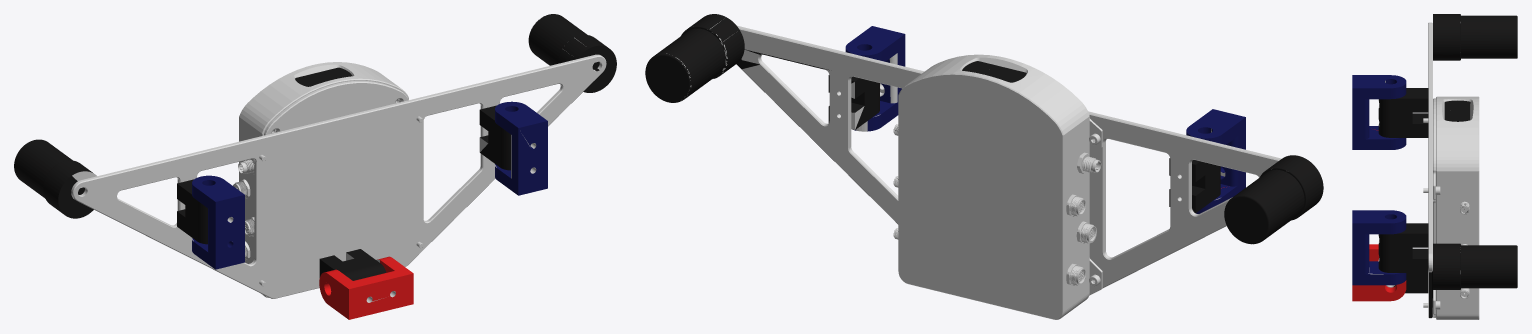
File: sensor.fbx
3 renders of one model, left to right at view 1: azimuth 30°, elevation 25°; view 2: azimuth 150°, elevation 25°; view 3: azimuth 270°, elevation 25°, orthographic. The views are drawn at different scales.
Parts seen in each view (by area): view 1: 00_VRTK2_STK_Assembly_incl_cam_FOV_v3 (1), Soportes, Patas Sensor, Soporte_Trasero, Antena1, Antena2, Pantalla; view 2: 00_VRTK2_STK_Assembly_incl_cam_FOV_v3 (1), Antena1, Antena2, Soportes, Patas Sensor, Pantalla; view 3: 00_VRTK2_STK_Assembly_incl_cam_FOV_v3 (1), Soportes, Patas Sensor, Antena1, Antena2, Soporte_Trasero, Pantalla.
Boxes of the visible parts, x1=… form: 00_VRTK2_STK_Assembly_incl_cam_FOV_v3 (1): x1=22, y1=14, x2=606, y2=302; Soportes: x1=192, y1=101, x2=547, y2=269; Patas Sensor: x1=177, y1=105, x2=510, y2=280; Soporte_Trasero: x1=319, y1=256, x2=413, y2=319; Antena1: x1=14, y1=139, x2=93, y2=218; Antena2: x1=528, y1=14, x2=616, y2=92; Pantalla: x1=295, y1=67, x2=352, y2=86; 00_VRTK2_STK_Assembly_incl_cam_FOV_v3 (1): x1=646, y1=17, x2=1306, y2=319; Antena1: x1=1224, y1=155, x2=1323, y2=244; Antena2: x1=645, y1=14, x2=744, y2=102; Soportes: x1=845, y1=26, x2=1245, y2=213; Patas Sensor: x1=828, y1=75, x2=1220, y2=213; Pantalla: x1=962, y1=61, x2=1026, y2=82; 00_VRTK2_STK_Assembly_incl_cam_FOV_v3 (1): x1=1368, y1=22, x2=1516, y2=319; Soportes: x1=1352, y1=75, x2=1406, y2=285; Patas Sensor: x1=1378, y1=88, x2=1428, y2=293; Antena1: x1=1433, y1=14, x2=1517, y2=60; Antena2: x1=1433, y1=243, x2=1517, y2=289; Soporte_Trasero: x1=1352, y1=129, x2=1406, y2=301; Pantalla: x1=1444, y1=100, x2=1470, y2=121.
Size of the model in its own units: 380 by 130 by 107.
